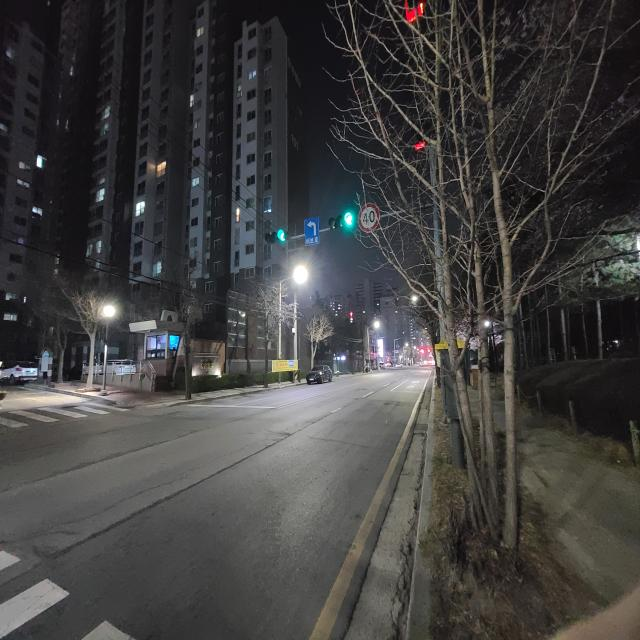Green Light: (343, 210, 355, 230), (276, 228, 286, 242)
